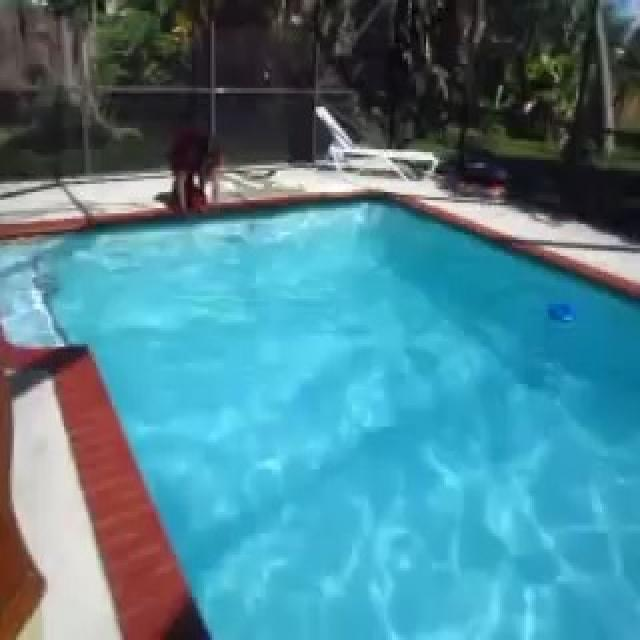out of water: (153, 121, 227, 228)
